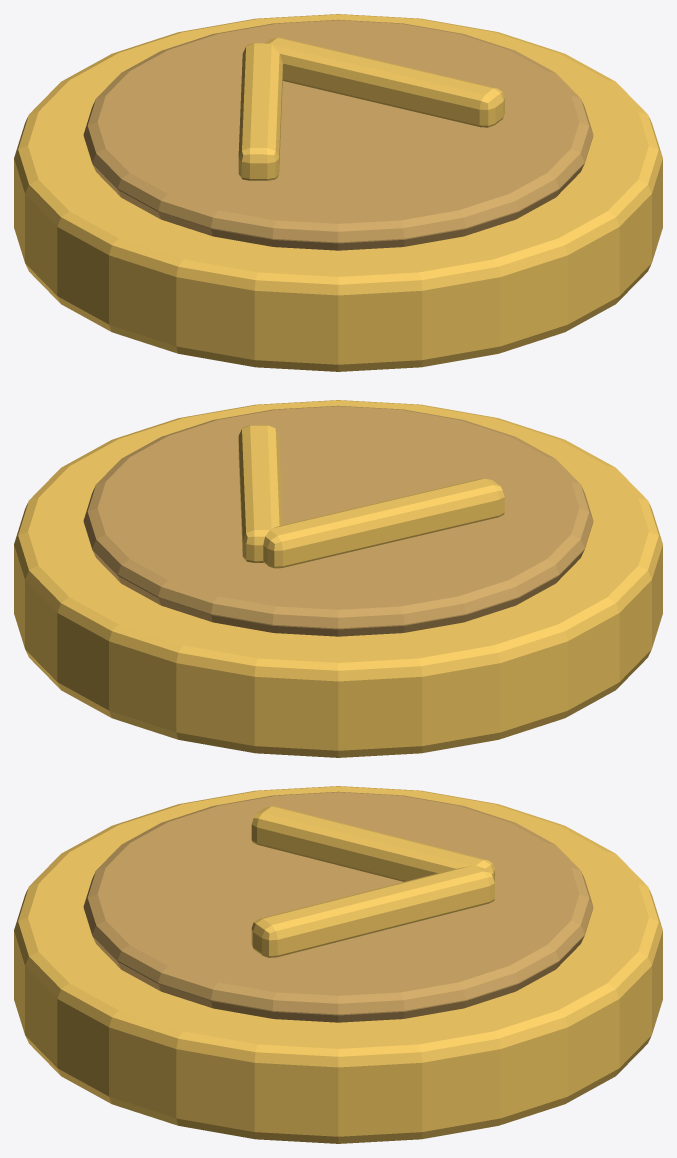
File: coin.glb
3 renders of one model, top to bottom at view 1: azimuth 30°, elevation 25°; view 2: azimuth 150°, elevation 25°; view 3: azimuth 270°, elevation 25°, orthographic.
Visible parts, largest first — view 1: Coin_Rim, Coin_Face, Coin_Crest.001, Coin_Crest; view 2: Coin_Rim, Coin_Face, Coin_Crest, Coin_Crest.001; view 3: Coin_Rim, Coin_Face, Coin_Crest.001, Coin_Crest.
Boxes of the visible parts, box(x1,y1,x2,y2) form: Coin_Rim: box(14, 14, 662, 371); Coin_Face: box(83, 19, 593, 250); Coin_Crest.001: box(266, 37, 504, 127); Coin_Crest: box(238, 43, 282, 180); Coin_Rim: box(14, 400, 662, 757); Coin_Face: box(83, 405, 593, 636); Coin_Crest: box(263, 478, 504, 568); Coin_Crest.001: box(238, 425, 282, 562); Coin_Rim: box(14, 786, 662, 1143); Coin_Face: box(83, 791, 593, 1022); Coin_Crest.001: box(251, 865, 494, 957); Coin_Crest: box(251, 806, 494, 882).
Size of the model in its own units: 0.56 by 0.1395 by 0.56.
